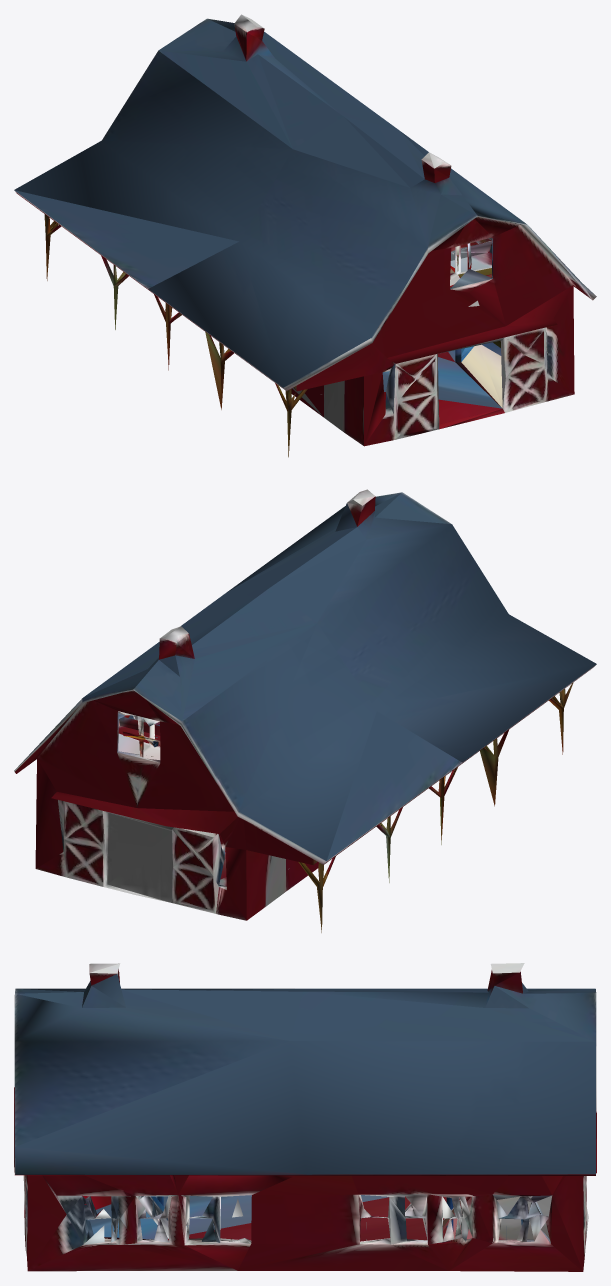
The model's file is barn.glb.
3 views of the same model, one above another, from view 1: azimuth 30°, elevation 25°; view 2: azimuth 150°, elevation 25°; view 3: azimuth 270°, elevation 25° (orthographic). The views are drawn at different scales.
Visible parts, largest first — view 1: tripo_node_7ef9160e; view 2: tripo_node_7ef9160e; view 3: tripo_node_7ef9160e.
Boxes of the visible parts, left/top/right/bottom form: tripo_node_7ef9160e: left=14, top=14, right=596, bottom=457; tripo_node_7ef9160e: left=14, top=489, right=596, bottom=932; tripo_node_7ef9160e: left=14, top=963, right=596, bottom=1271.
Bounding box in the file's own units: 1.37 × 1 × 2.04.
1 material, 1 textured.
